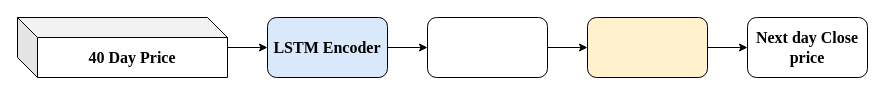
Image size: 885x95. Some labels were removed from this diagram. Each missing label, with the centre of its shape:
"Context Vector" belongs at point 487,47.
"LSTM Decoder" belongs at point 647,47.
